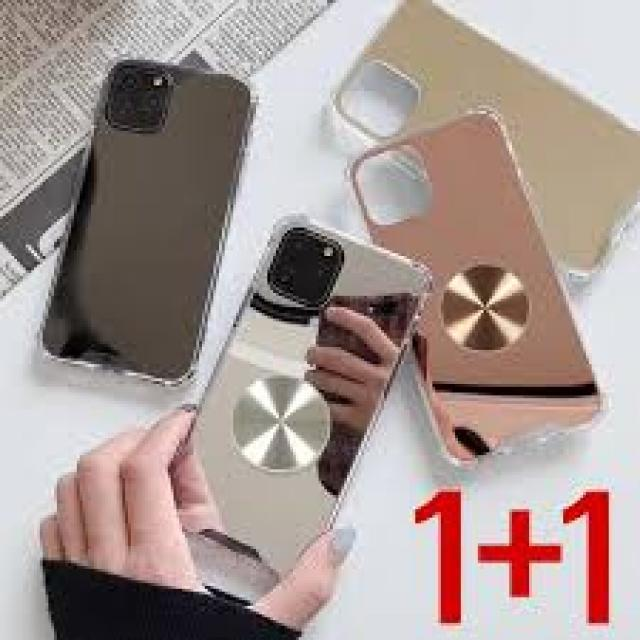Phone: (172, 214, 438, 605), (40, 59, 255, 386)
